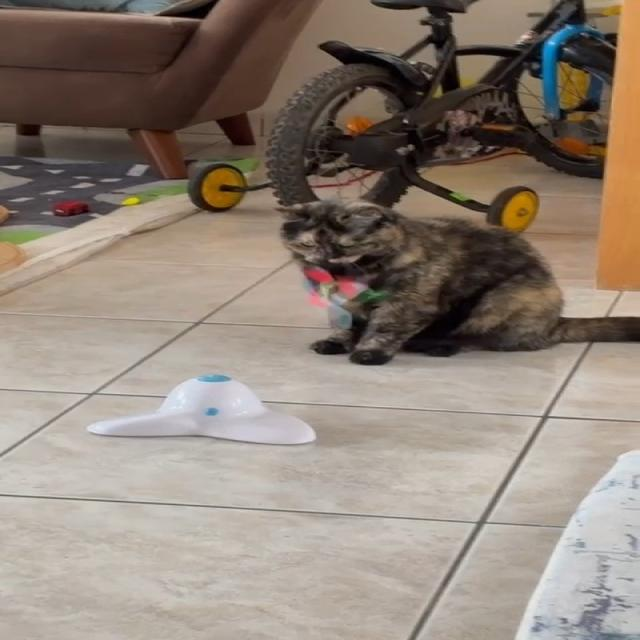authorized: (274, 197, 638, 366)
